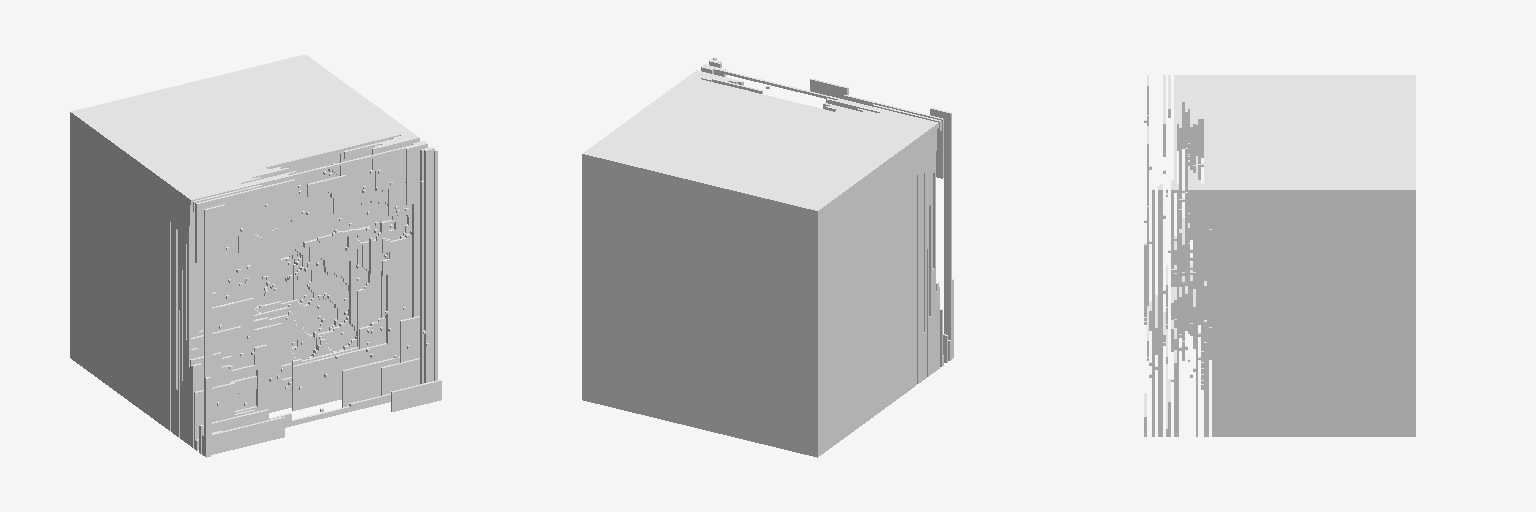
File: baseback.obj
3 renders of one model, left to right at view 1: azimuth 30°, elevation 25°; view 2: azimuth 150°, elevation 25°; view 3: azimuth 270°, elevation 25°, orthographic.
Visible parts, largest first — view 1: object 1; view 2: object 1; view 3: object 1.
Part boxes in pixels (left/top/right/bottom): object 1: left=70, top=54, right=441, bottom=457; object 1: left=582, top=57, right=953, bottom=457; object 1: left=1144, top=75, right=1415, bottom=436.
Bounding box in the file's own units: 10 × 10 × 10.